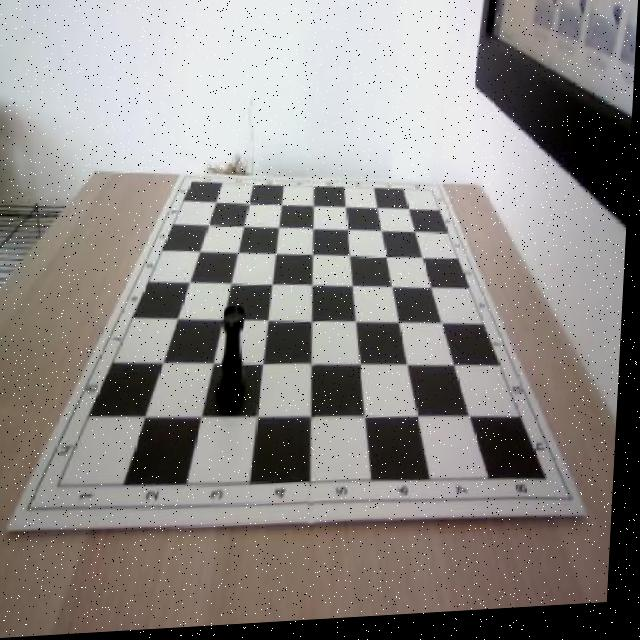black-queen: (219, 303, 255, 416)
